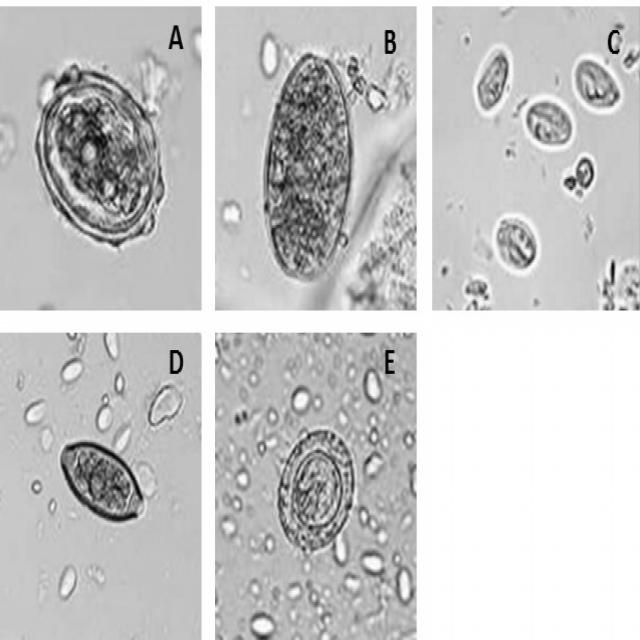Ascaris Lumbricoides: (35, 66, 168, 262)
Fasciola Hepatica: (262, 48, 355, 292)
Hymenolepis: (275, 428, 359, 557)
Trichuris Trichiura: (55, 439, 148, 529)
